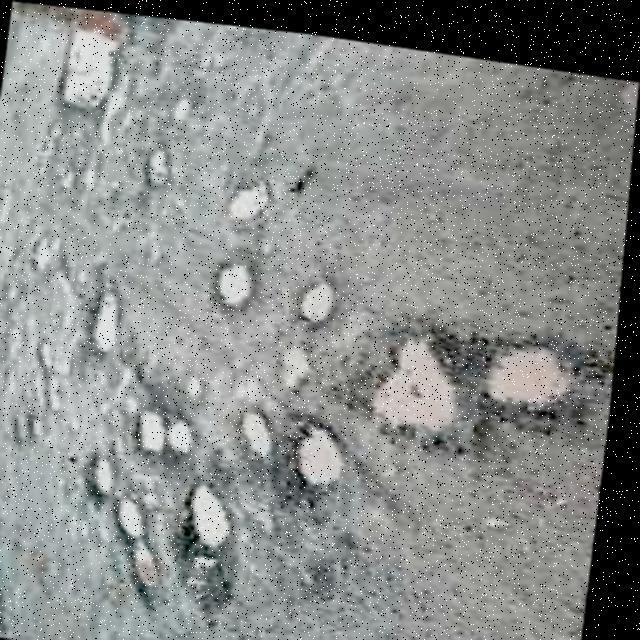pothole: (366, 315, 480, 433), (34, 3, 128, 124), (469, 324, 584, 404), (106, 489, 186, 590), (20, 338, 84, 446), (178, 470, 258, 546), (290, 414, 360, 486), (81, 272, 138, 352), (127, 404, 207, 454), (226, 163, 286, 220), (203, 249, 262, 304), (291, 266, 345, 320), (236, 396, 282, 449), (129, 145, 181, 190), (87, 446, 130, 498), (28, 227, 73, 270)
